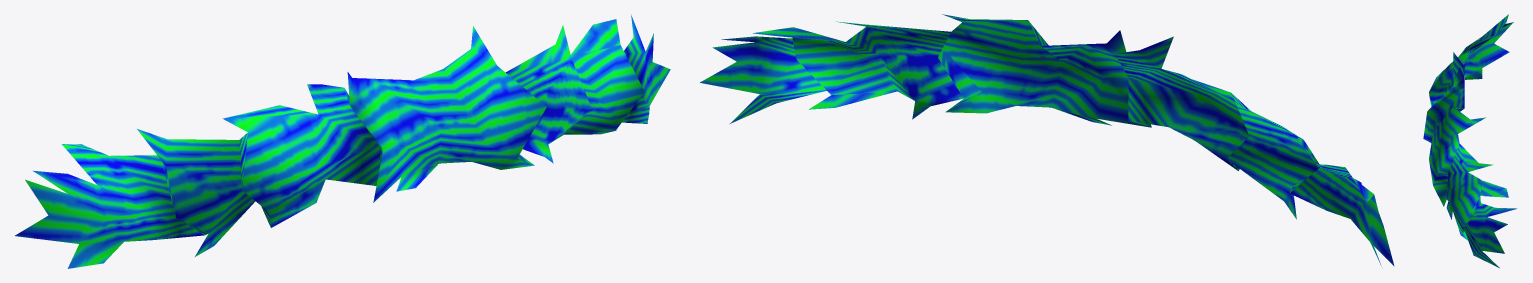
File: Unibrow.fbx
The picture shows the model from 3 angles, left to right: view 1: azimuth 30°, elevation 25°; view 2: azimuth 150°, elevation 25°; view 3: azimuth 270°, elevation 25°; orthographic projection. The views are drawn at different scales.
Parts seen in each view (by area): view 1: unibrow; view 2: unibrow; view 3: unibrow.
Part boxes in pixels (x1,y1,x2,y2): unibrow: [15, 14, 670, 268]; unibrow: [700, 14, 1394, 266]; unibrow: [1423, 14, 1517, 268].
Bounding box in the file's own units: 35.08 × 7.6 × 6.79.
